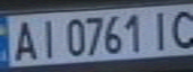0: (60, 15, 87, 57)
1: (121, 10, 148, 53)
6: (103, 11, 127, 55)
7: (81, 14, 106, 56)
A: (6, 17, 42, 62)
C: (166, 6, 193, 51)
I: (145, 7, 175, 52), (33, 16, 60, 60)
